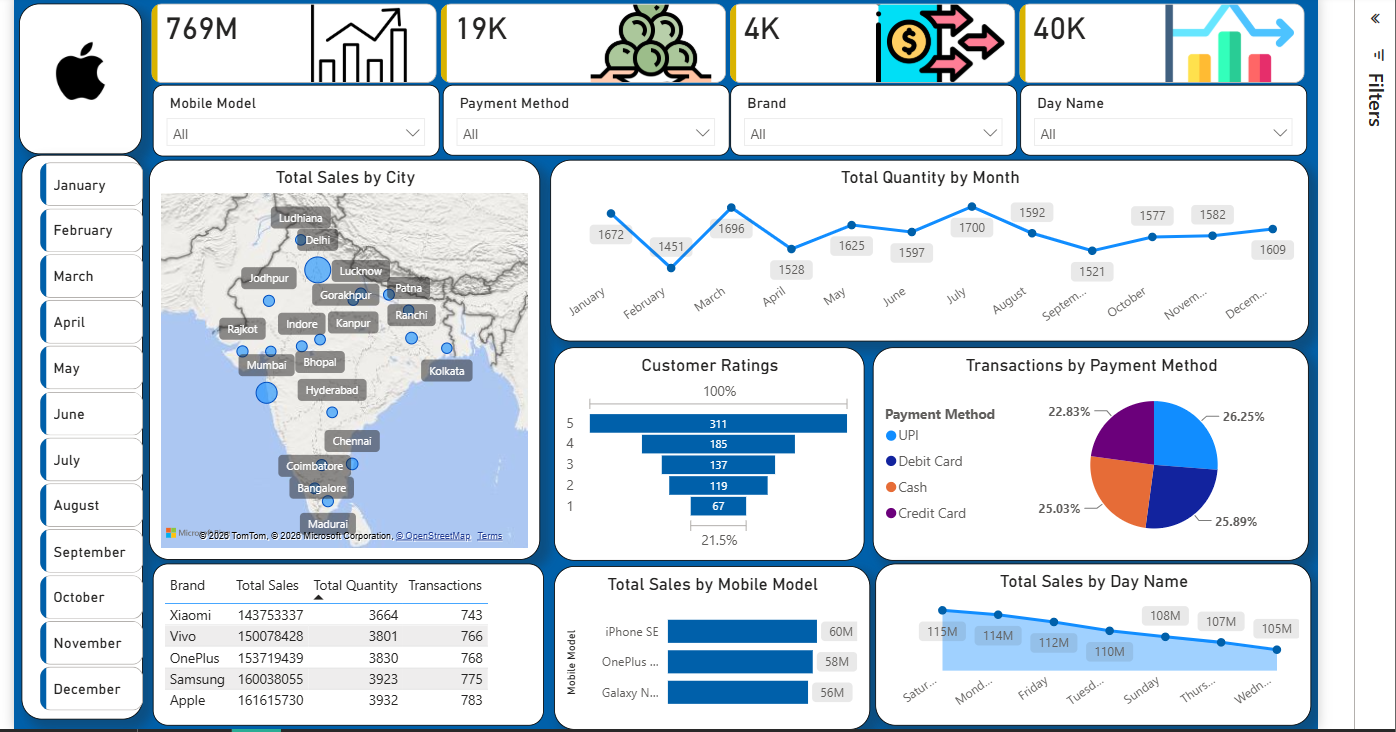

Layout of this report page (visuals, bound fields, positions):
{"tool":"powerbi","page":{"name":"Page 1","canvas":[1280,720],"ordinal":0},"visuals":[{"type":"shape","box":[5.5,6.9,120.8,148.2],"z":0},{"type":"shape","box":[6.9,156.4,119.4,554.4],"z":2000},{"type":"advancedSlicerVisual","fields":{"Values":["Sales_Data.Date.Variation.Date Hierarchy.Month"]},"box":[20.9,158.3,111.1,548.9],"z":3000},{"type":"cardVisual","fields":{"Data":["Sales_Data.Total Sales","Sales_Data.Total Quantity","Sales_Data.Transactions","Sales_Data.Average"]},"box":[130.1,7.4,1143.6,83.4],"z":4000},{"type":"map","fields":{"Category":["Sales_Data.City"],"Size":["Sales_Data.Total Sales"]},"box":[132.9,160.8,384.1,393.1],"z":5000},{"type":"lineChart","fields":{"Category":["Sales_Data.Date.Variation.Date Hierarchy.Month","Sales_Data.Date.Variation.Date Hierarchy.Day"],"Y":["Sales_Data.Total Quantity"]},"box":[525.9,160.8,744.8,178.7],"z":6000},{"type":"clusteredBarChart","fields":{"Category":["Sales_Data.Mobile Model"],"Y":["Sales_Data.Total Sales"]},"box":[530.1,559.5,310.1,160.5],"z":7000},{"type":"pieChart","fields":{"Category":["Sales_Data.Payment Method"],"Y":["Sales_Data.Transactions"]},"box":[842.5,344.4,428.1,209.9],"z":8000},{"type":"funnel","title":"Customer Ratings","fields":{"Category":["Sales_Data.Customer Ratings"],"Y":["CountNonNull(Sales_Data.Customer Ratings)"]},"box":[529.7,344.4,304.6,209.9],"z":9000},{"type":"areaChart","fields":{"Category":["Sales_Data.Day Name"],"Y":["Sales_Data.Total Sales"]},"box":[845.3,557.1,428.1,159.2],"z":10000},{"type":"tableEx","fields":{"Values":["Sales_Data.Brand","Sales_Data.Total Sales","Sales_Data.Total Quantity","Sales_Data.Transactions"]},"box":[135.8,557.1,384.2,159.2],"z":11000},{"type":"slicer","fields":{"Values":["Sales_Data.Mobile Model"]},"box":[136.2,87.1,281.4,70.3],"z":12000},{"type":"slicer","fields":{"Values":["Sales_Data.Payment Method"]},"box":[421,87.1,281.4,69.2],"z":13000},{"type":"slicer","fields":{"Values":["Sales_Data.Brand"]},"box":[703.5,87.1,281.4,69.2],"z":14000},{"type":"slicer","fields":{"Values":["Sales_Data.Day Name"]},"box":[988.2,87.1,281.4,69.2],"z":15000},{"type":"image","box":[7.4,11,115.3,138.7],"z":15001}]}

Visuals, with their boxes in screenshot pixels (x1, y1, x2, y2):
shape: [left=9, top=0, right=135, bottom=146]
shape: [left=11, top=148, right=135, bottom=723]
advancedSlicerVisual - Sales_Data.Date.Variation.Date Hierarchy.Month: [left=25, top=150, right=141, bottom=719]
cardVisual - Sales_Data.Total Sales x Sales_Data.Total Quantity: [left=139, top=0, right=1325, bottom=80]
map - Sales_Data.City x Sales_Data.Total Sales: [left=142, top=152, right=540, bottom=560]
lineChart - Sales_Data.Date.Variation.Date Hierarchy.Month x Sales_Data.Date.Variation.Date Hierarchy.Day: [left=549, top=152, right=1322, bottom=338]
clusteredBarChart - Sales_Data.Mobile Model x Sales_Data.Total Sales: [left=554, top=566, right=875, bottom=731]
pieChart - Sales_Data.Payment Method x Sales_Data.Transactions: [left=878, top=343, right=1322, bottom=561]
"Customer Ratings" funnel: [left=553, top=343, right=869, bottom=561]
areaChart - Sales_Data.Day Name x Sales_Data.Total Sales: [left=881, top=564, right=1325, bottom=729]
tableEx - Sales_Data.Brand x Sales_Data.Total Sales: [left=145, top=564, right=543, bottom=729]
slicer - Sales_Data.Mobile Model: [left=145, top=76, right=437, bottom=149]
slicer - Sales_Data.Payment Method: [left=440, top=76, right=732, bottom=148]
slicer - Sales_Data.Brand: [left=734, top=76, right=1026, bottom=148]
slicer - Sales_Data.Day Name: [left=1029, top=76, right=1321, bottom=148]
image: [left=11, top=0, right=131, bottom=141]
